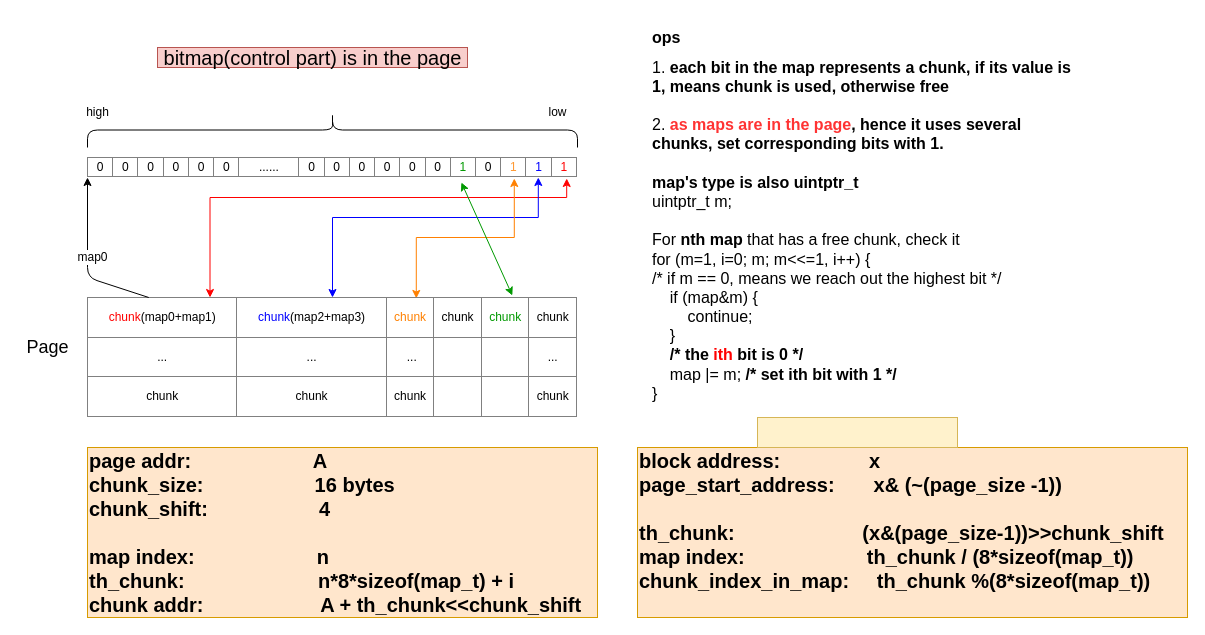
This 1205x635 diagram has some shape labels left out. The box of each missing label's shape, as (x1, y1, x2, y2) in pixels:
Free block address: (756, 416, 958, 448)
map: (86, 112, 578, 148)
